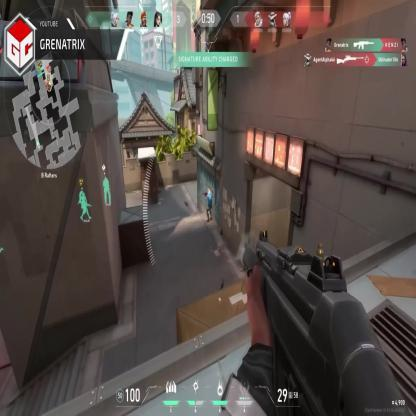enemy: (206, 186, 212, 221)
enemy_head: (208, 188, 210, 193)
